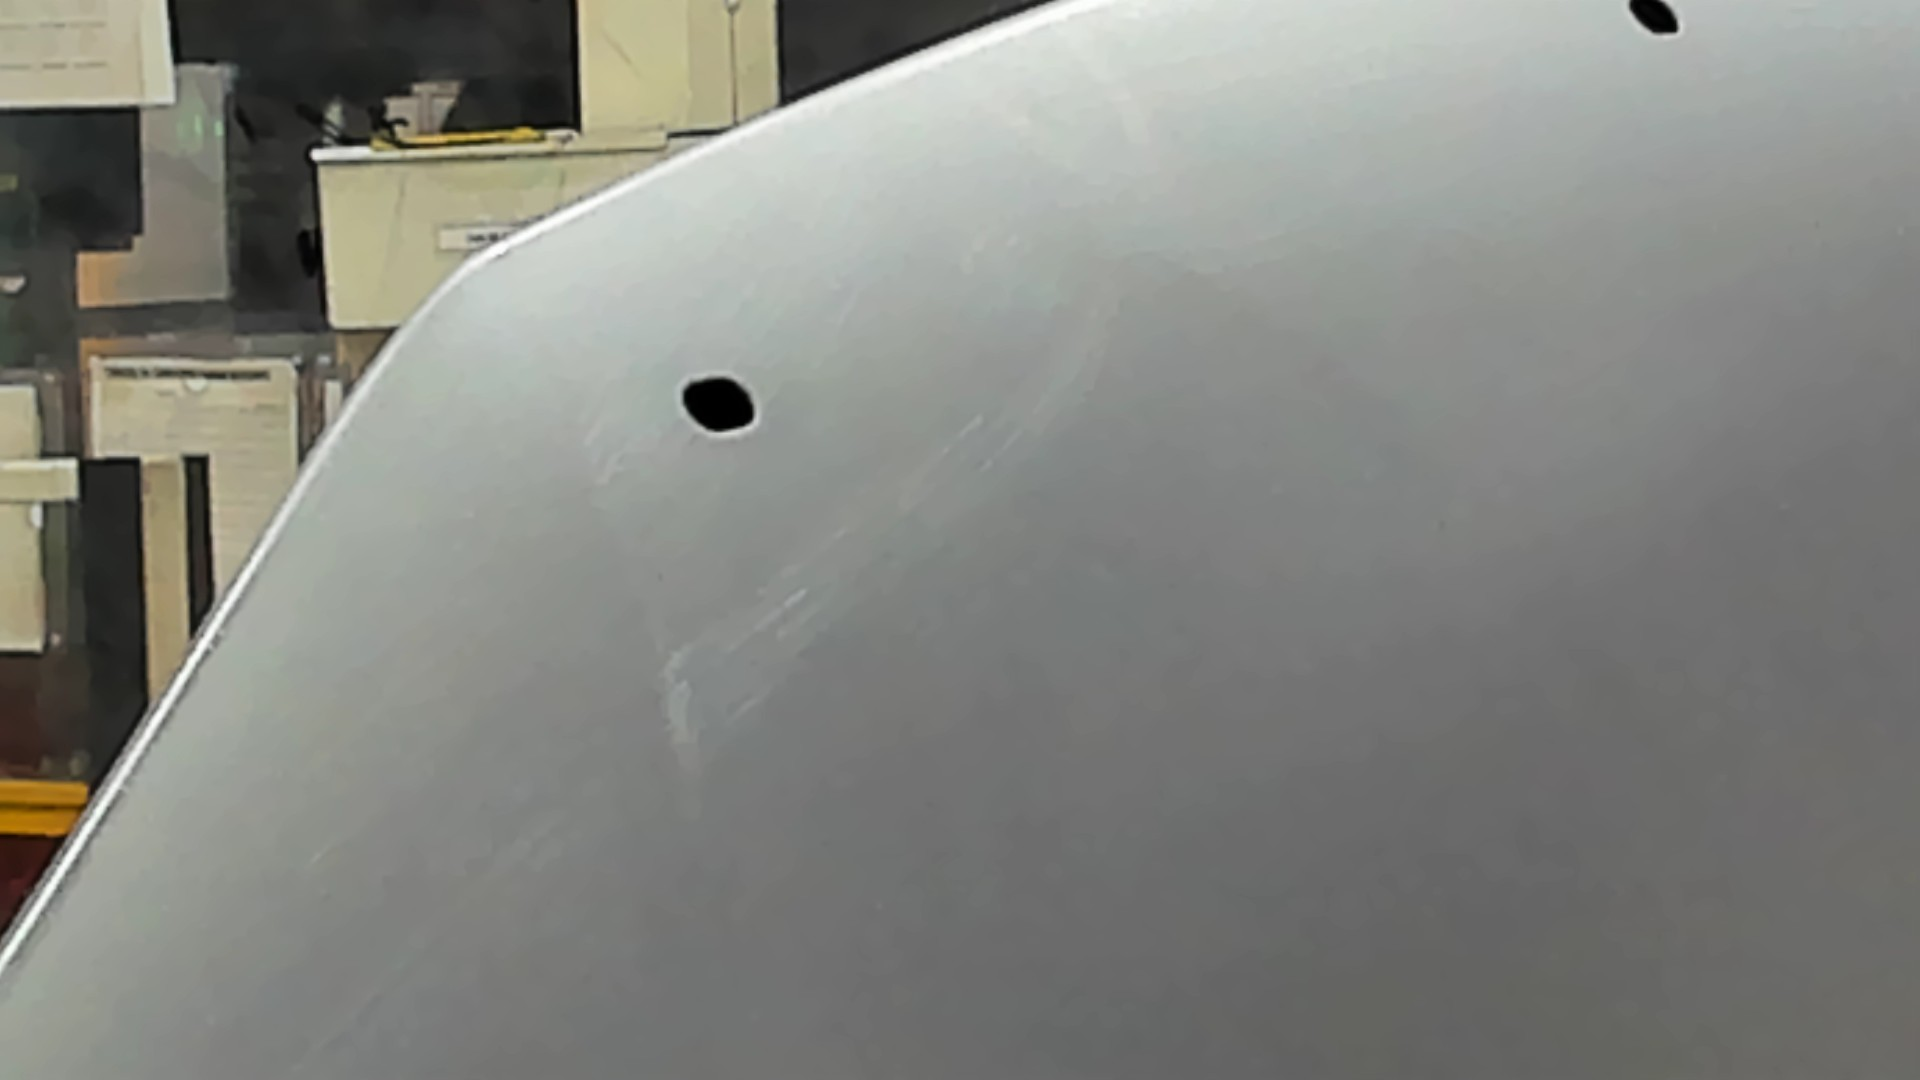Agujero: (676, 372, 758, 434), (1622, 1, 1683, 37)
